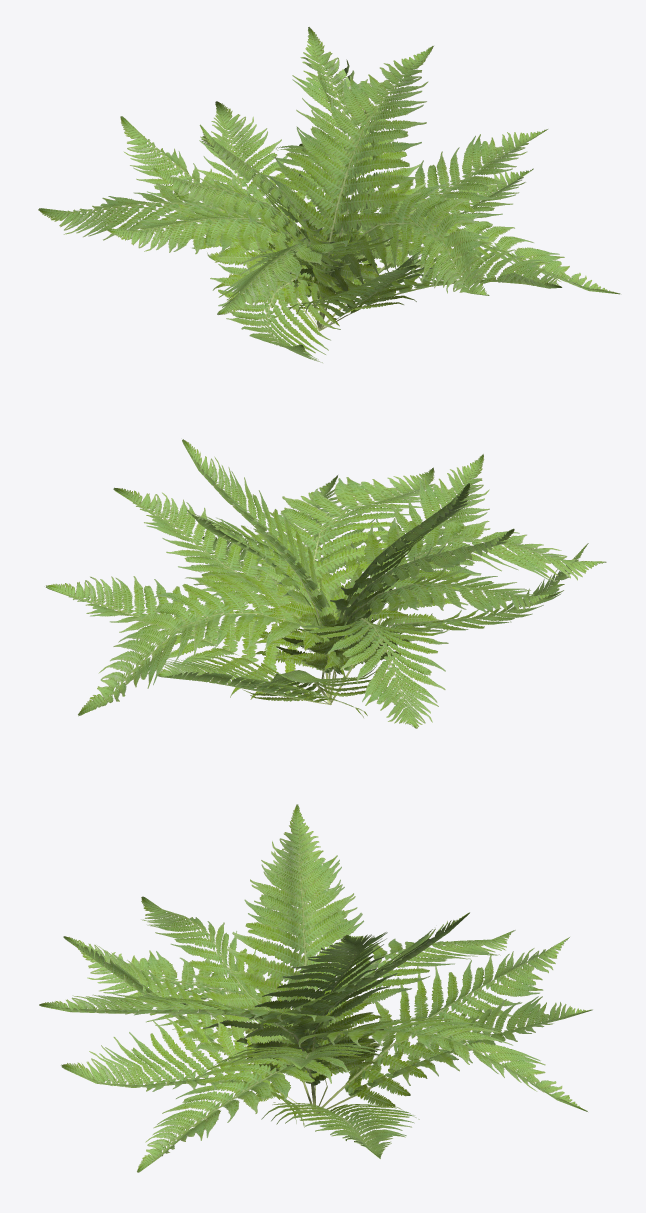
The model's file is varen.fbx.
3 renders of one model, top to bottom at view 1: azimuth 30°, elevation 25°; view 2: azimuth 150°, elevation 25°; view 3: azimuth 270°, elevation 25°, orthographic.
Visible parts, largest first — view 1: vegetation_fern_08.006, vegetation_fern_08.004, vegetation_fern_08.003, vegetation_fern_08, vegetation_fern_08.002, vegetation_fern_08.011, vegetation_fern_08.013, vegetation_fern_08.010, vegetation_fern_08.012, vegetation_fern_08.001, vegetation_fern_08.007, vegetation_fern_08.015 (+5 smaller); view 2: vegetation_fern_08.005, vegetation_fern_08.004, vegetation_fern_08, vegetation_fern_08.010, vegetation_fern_08.008, vegetation_fern_08.002, vegetation_fern_08.009, vegetation_fern_08.006, vegetation_fern_08.011, vegetation_fern_08.012, vegetation_fern_08.003, vegetation_fern_08.016 (+5 smaller); view 3: vegetation_fern_08.016, vegetation_fern_08.014, vegetation_fern_08.001, vegetation_fern_08.007, vegetation_fern_08.005, vegetation_fern_08.010, vegetation_fern_08.004, vegetation_fern_08.006, vegetation_fern_08.012, vegetation_fern_08.003, vegetation_fern_08.013, vegetation_fern_08 (+5 smaller).
Part boxes in pixels (x1,y1,x2,y2): vegetation_fern_08.006: (268,46,433,329); vegetation_fern_08.004: (308,179,489,303); vegetation_fern_08.003: (291,27,425,296); vegetation_fern_08: (38,174,320,327); vegetation_fern_08.002: (315,129,547,300); vegetation_fern_08.011: (105,194,336,323); vegetation_fern_08.013: (210,250,340,362); vegetation_fern_08.010: (217,236,401,330); vegetation_fern_08.012: (196,101,319,331); vegetation_fern_08.001: (321,201,620,328); vegetation_fern_08.007: (319,246,562,330); vegetation_fern_08.015: (153,167,343,314); vegetation_fern_08.005: (78,572,345,716); vegetation_fern_08.004: (250,467,441,695); vegetation_fern_08: (276,618,448,728); vegetation_fern_08.010: (290,517,606,704); vegetation_fern_08.008: (46,576,328,703); vegetation_fern_08.002: (113,487,338,703); vegetation_fern_08.009: (331,454,490,703); vegetation_fern_08.006: (182,439,343,703); vegetation_fern_08.011: (308,566,557,691); vegetation_fern_08.012: (157,655,367,717); vegetation_fern_08.003: (186,509,348,694); vegetation_fern_08.016: (302,483,470,678); vegetation_fern_08.016: (227,804,385,1061); vegetation_fern_08.014: (316,937,569,1113); vegetation_fern_08.001: (137,1053,377,1172); vegetation_fern_08.007: (61,1016,314,1127); vegetation_fern_08.005: (273,1017,587,1111); vegetation_fern_08.010: (141,896,327,1106); vegetation_fern_08.004: (39,993,376,1104); vegetation_fern_08.006: (242,932,387,1102); vegetation_fern_08.012: (318,996,592,1113); vegetation_fern_08.003: (241,912,469,1098); vegetation_fern_08.013: (75,940,355,1113); vegetation_fern_08: (279,930,515,1068).
Size of the model in its own units: 188 by 91.75 by 196.
